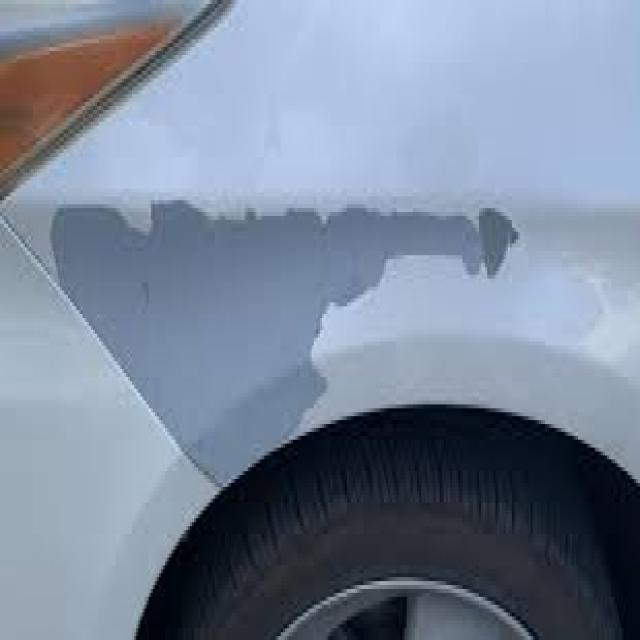paint-chip: (46, 191, 528, 496)
